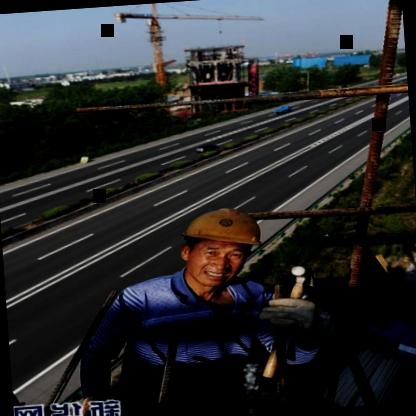helmet: (168, 199, 274, 291)
